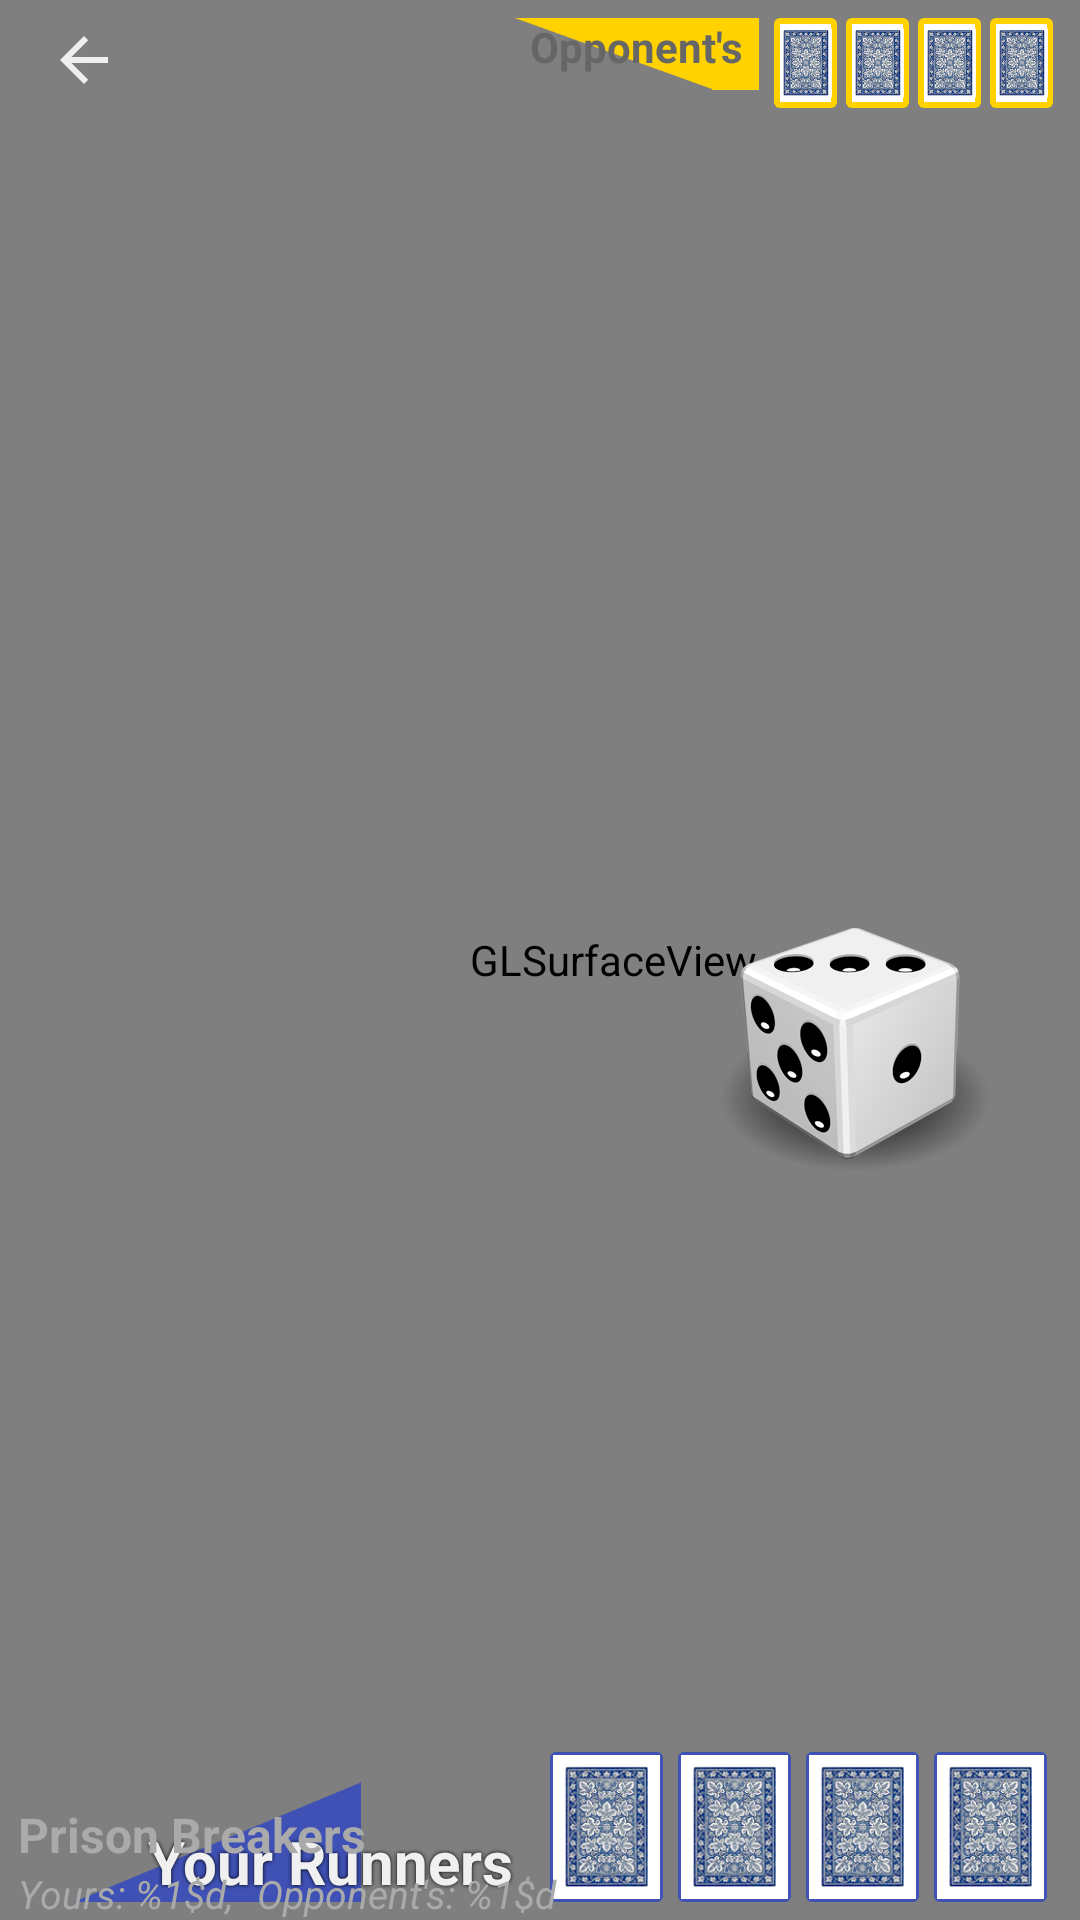

Screen size 1080 x 1920. Icon name, then its center in pixels as (x=x, y=y):
card back: (x=805, y=63), (x=877, y=63), (x=949, y=63), (x=1021, y=63), (x=606, y=1827), (x=734, y=1827), (x=862, y=1827), (x=990, y=1827)
dice: (x=845, y=1044)
selec back: (x=84, y=60)
